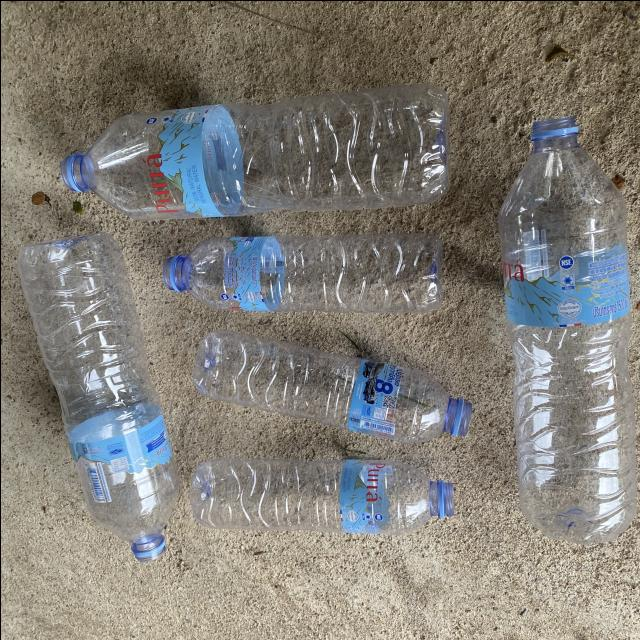plastik: (498, 116, 636, 543), (17, 232, 178, 560), (60, 83, 448, 219), (192, 329, 472, 442), (162, 232, 443, 312), (189, 457, 453, 534)
